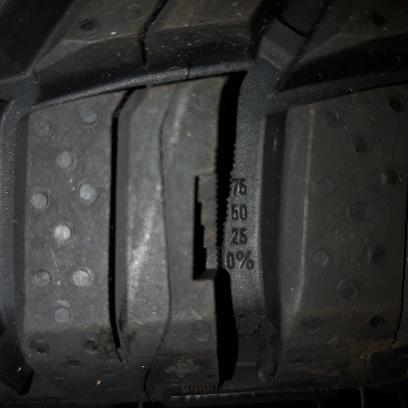temoin:100: (191, 151, 237, 287)
